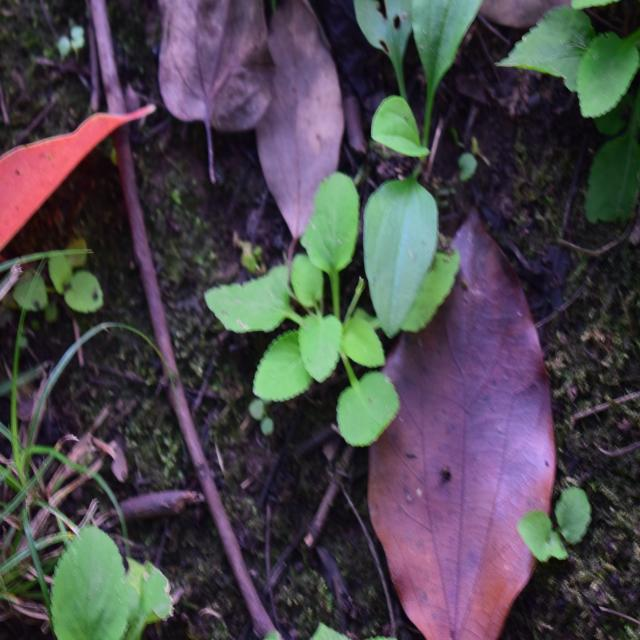Viola: (230, 175, 406, 450)
